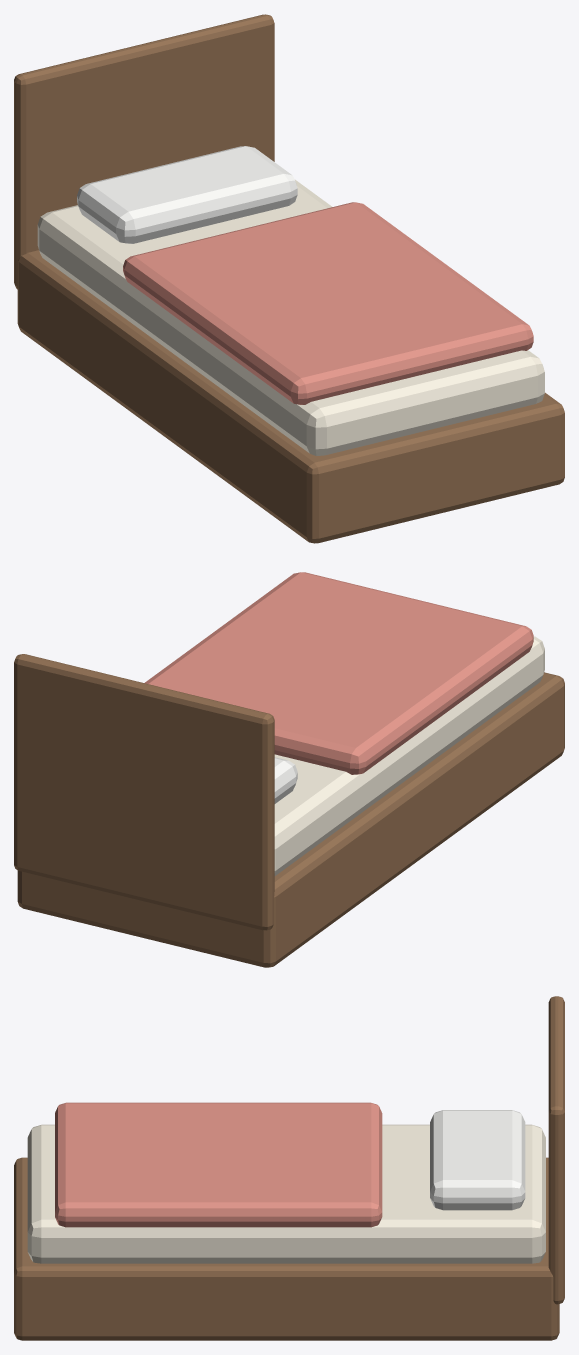
Rendered from GrandpaBed.fbx.
The picture shows the model from 3 angles, top to bottom: view 1: azimuth 30°, elevation 25°; view 2: azimuth 150°, elevation 25°; view 3: azimuth 270°, elevation 25°; orthographic projection. The views are drawn at different scales.
Visible parts, largest first — view 1: GrandpaBed; view 2: GrandpaBed; view 3: GrandpaBed.
Boxes of the visible parts, <box> form: GrandpaBed: <box>14,14,564,543</box>; GrandpaBed: <box>14,572,564,967</box>; GrandpaBed: <box>14,996,564,1340</box>.
Bounding box in the file's own units: 100 × 95 × 202.
